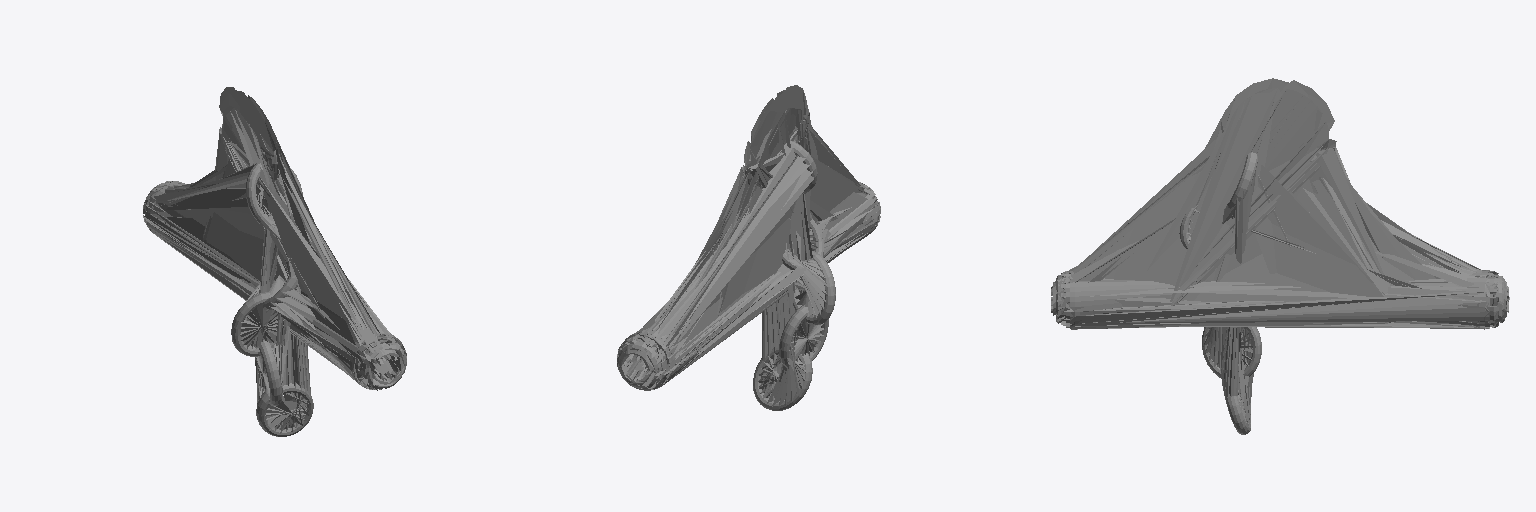
File: Anchor2.obj
The picture shows the model from 3 angles: view 1: azimuth 30°, elevation 25°; view 2: azimuth 150°, elevation 25°; view 3: azimuth 270°, elevation 25°; orthographic projection.
Visible parts, largest first — view 1: Anchor, Chain; view 2: Anchor, Chain; view 3: Anchor, Chain.
Part boxes in pixels (x1,y1,x2,y2): Anchor: (143, 87, 406, 433); Chain: (231, 162, 313, 436); Anchor: (617, 85, 880, 405); Chain: (753, 141, 835, 410); Anchor: (1051, 78, 1509, 426); Chain: (1179, 152, 1261, 434).
Bounding box in the file's own units: 56.49 × 204 × 250.